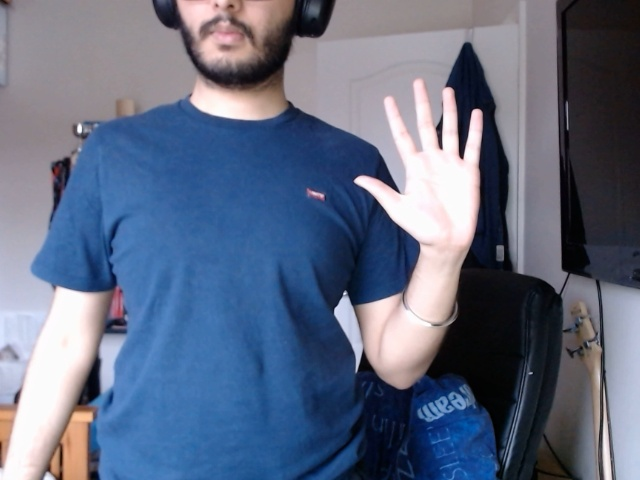Hello: (351, 70, 497, 266)
